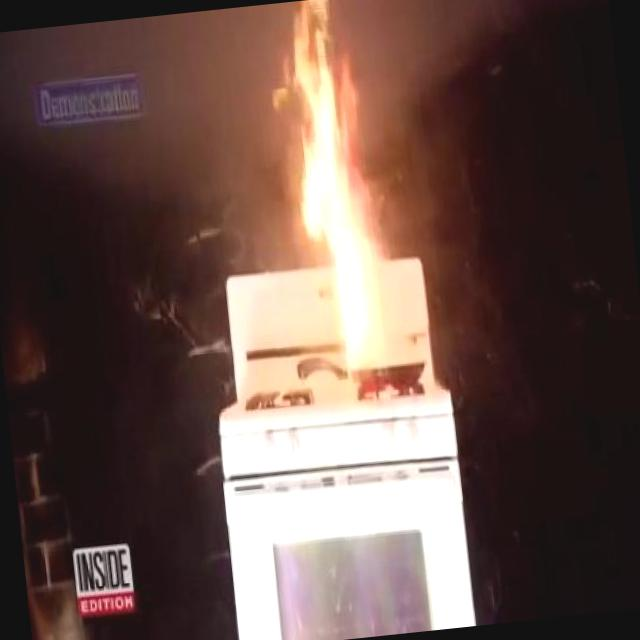fire: (232, 0, 462, 435)
